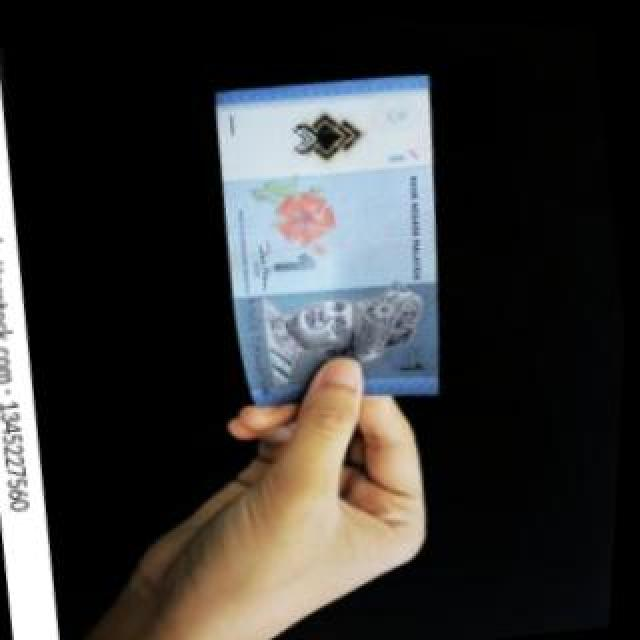1 Ringgit: (180, 48, 489, 428)
